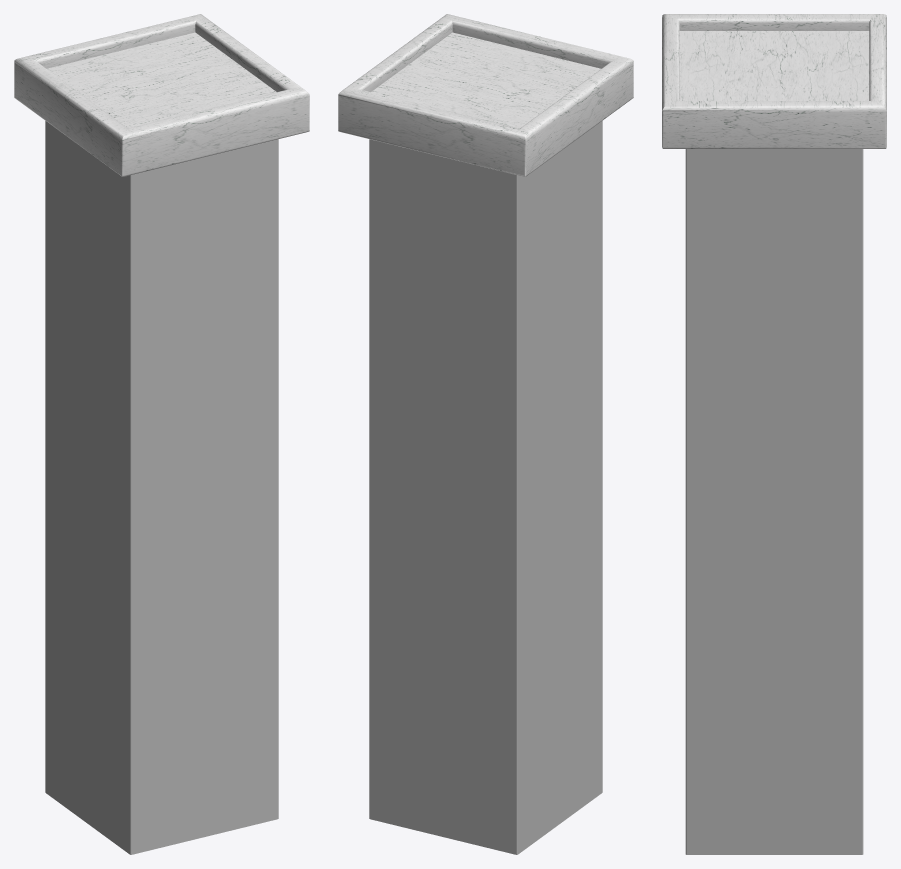
File: Pillar.fbx
The picture shows the model from 3 angles, left to right: view 1: azimuth 30°, elevation 25°; view 2: azimuth 150°, elevation 25°; view 3: azimuth 270°, elevation 25°; orthographic projection. The views are drawn at different scales.
Visible parts, largest first — view 1: pillar.002, Cube.007; view 2: pillar.002, Cube.007; view 3: pillar.002, Cube.007.
Boxes of the visible parts, <box> form: pillar.002: <box>45,121,278,854</box>; Cube.007: <box>14,14,309,176</box>; pillar.002: <box>369,121,602,854</box>; Cube.007: <box>338,14,633,176</box>; pillar.002: <box>685,149,863,854</box>; Cube.007: <box>662,14,886,148</box>.
Bounding box in the file's own units: 0.57 × 2.12 × 0.57.
